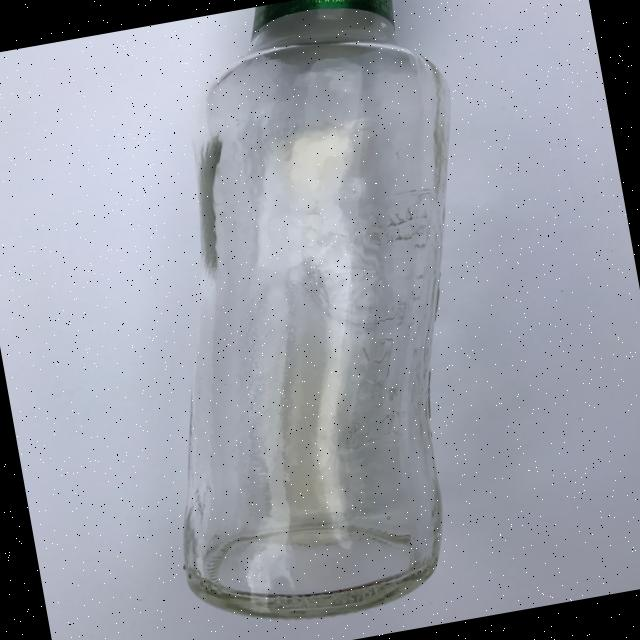glass: (88, 0, 535, 640)
